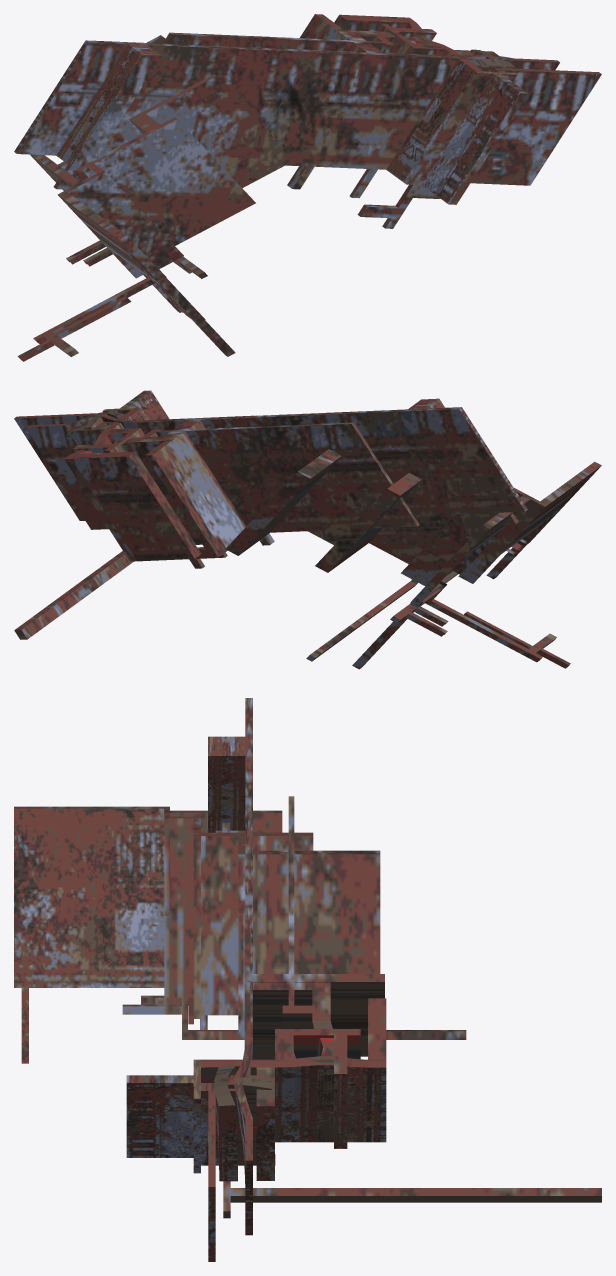
Rendered from SM_Debris_04.fbx.
The picture shows the model from 3 angles, top to bottom: view 1: azimuth 30°, elevation 25°; view 2: azimuth 150°, elevation 25°; view 3: azimuth 270°, elevation 25°; orthographic projection. The views are drawn at different scales.
Visible parts, largest first — view 1: Retopo_SM_RandomDebris; view 2: Retopo_SM_RandomDebris; view 3: Retopo_SM_RandomDebris.
Part boxes in pixels (x1,y1,x2,y2): Retopo_SM_RandomDebris: [14, 14, 601, 361]; Retopo_SM_RandomDebris: [14, 390, 601, 669]; Retopo_SM_RandomDebris: [14, 698, 601, 1261].
Bounding box in the file's own units: 744 × 361 × 505.
